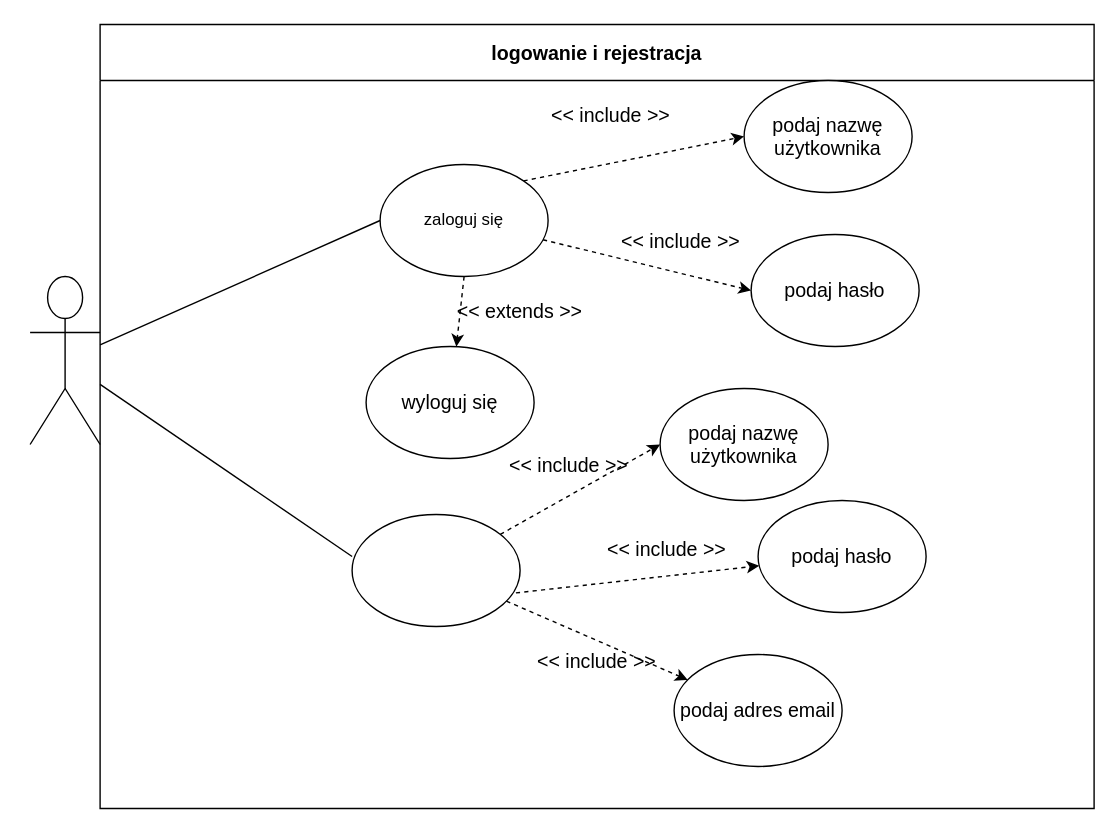
Image size: 1119x833. Some labels were removed from this diagram. Here are the shapes that lost their labels. From the top down, the centre of each, then its label:
the point at 64,359: użytkownik
the point at 435,569: zarejestruj się
